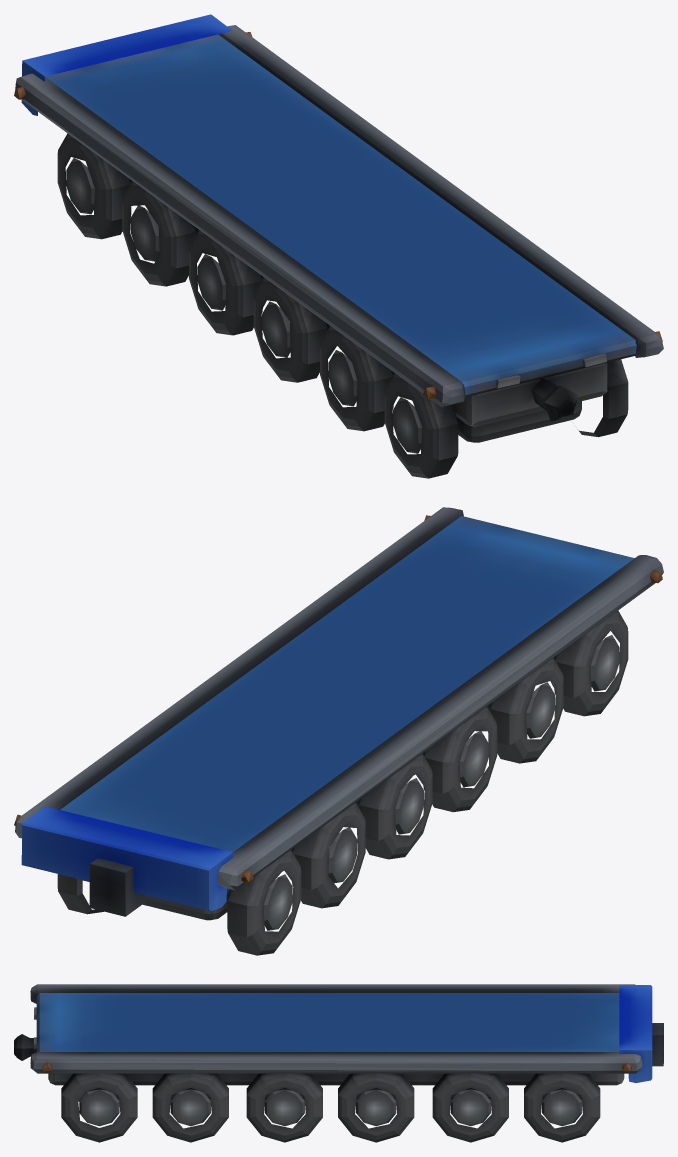
Rendered from 火车车厢1.glb.
3 renders of one model, top to bottom at view 1: azimuth 30°, elevation 25°; view 2: azimuth 150°, elevation 25°; view 3: azimuth 270°, elevation 25°, orthographic. The views are drawn at different scales.
Parts seen in each view (by area): view 1: 火车头; view 2: 火车头; view 3: 火车头.
Part boxes in pixels (x1=…): 火车头: x1=14, y1=14, x2=663, y2=478; 火车头: x1=14, y1=507, x2=663, y2=955; 火车头: x1=14, y1=984, x2=663, y2=1142.
Bounding box in the file's own units: 1.4 × 0.7435 × 4.74.
Materials: 1 (1 with a texture image).
